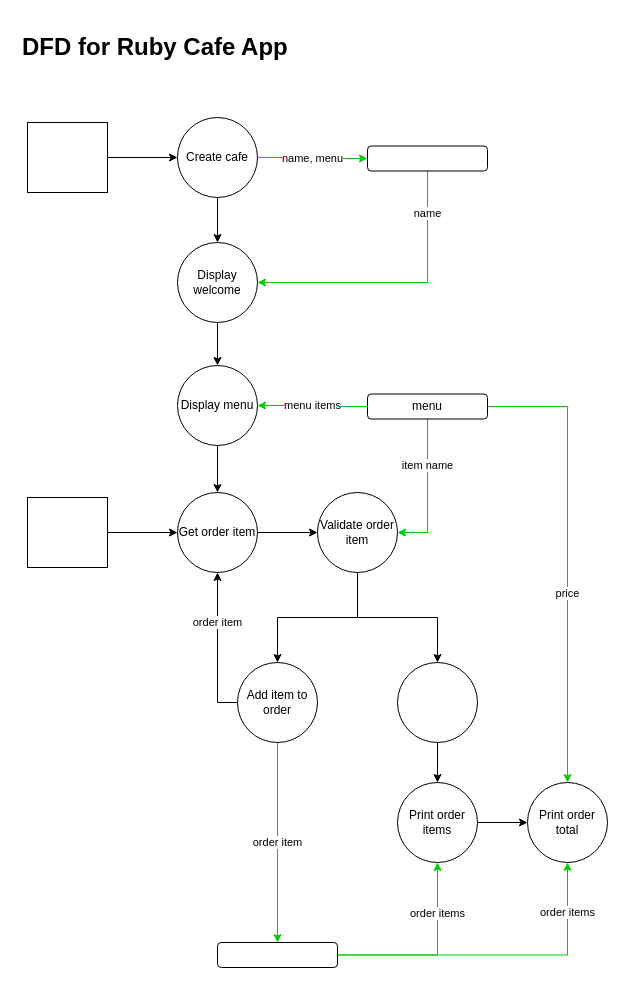
Some shapes in this 625 by 985 pixel diagram are drawn without their labels. Each missing label, with the centre of its shape:
"App" goes at point (67, 157).
"cafe" goes at point (427, 158).
"Done" goes at point (437, 702).
"order" goes at point (277, 955).
"User" goes at point (67, 532).
